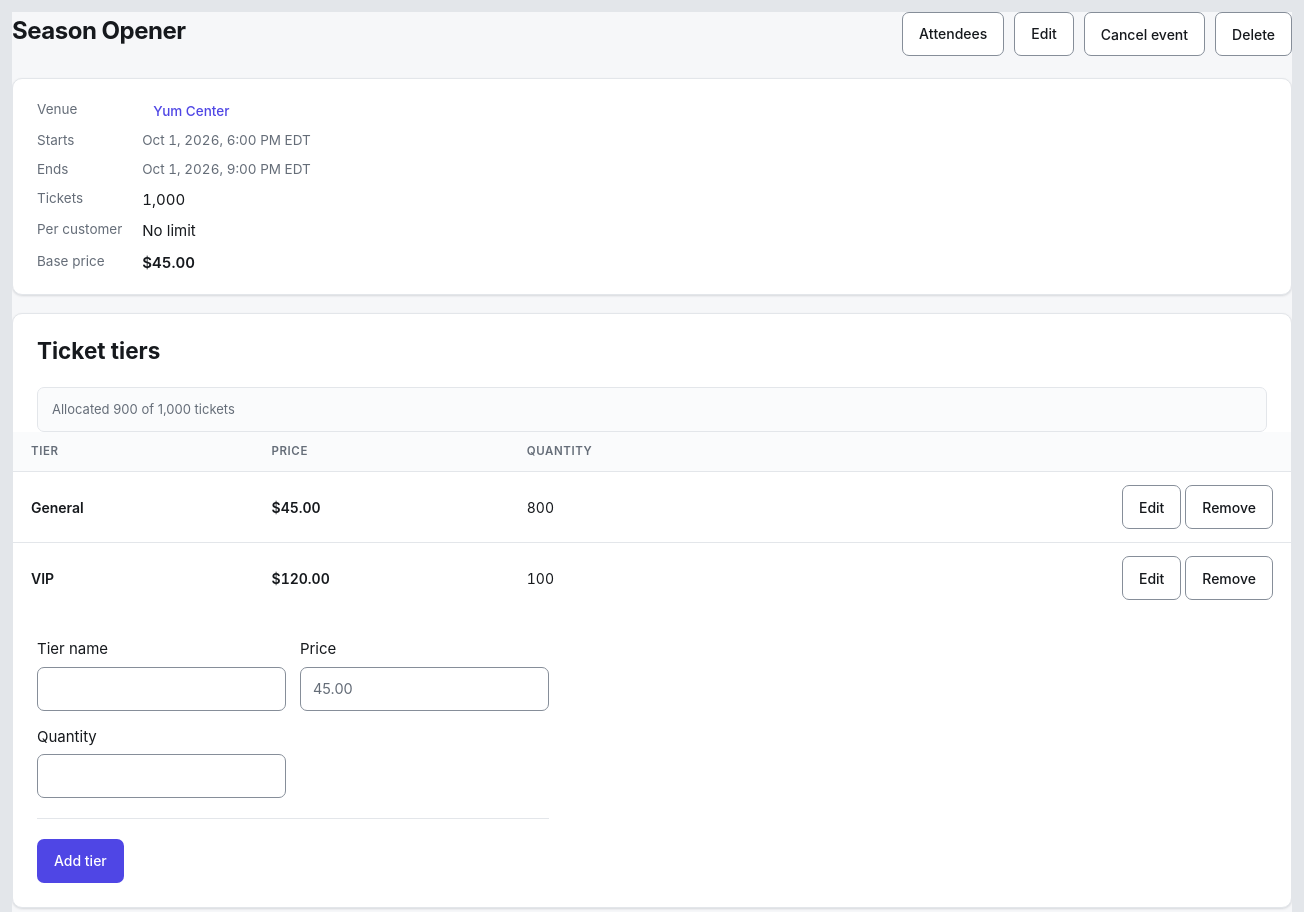
Scenario: Ticket tiers on the event page › edits a tier through PATCH
The width and height of the screenshot is (1304, 912).
Click the button "Edit" in the row of "VIP" at coordinates (1152, 578), box left=1122, top=556, right=1181, bottom=600
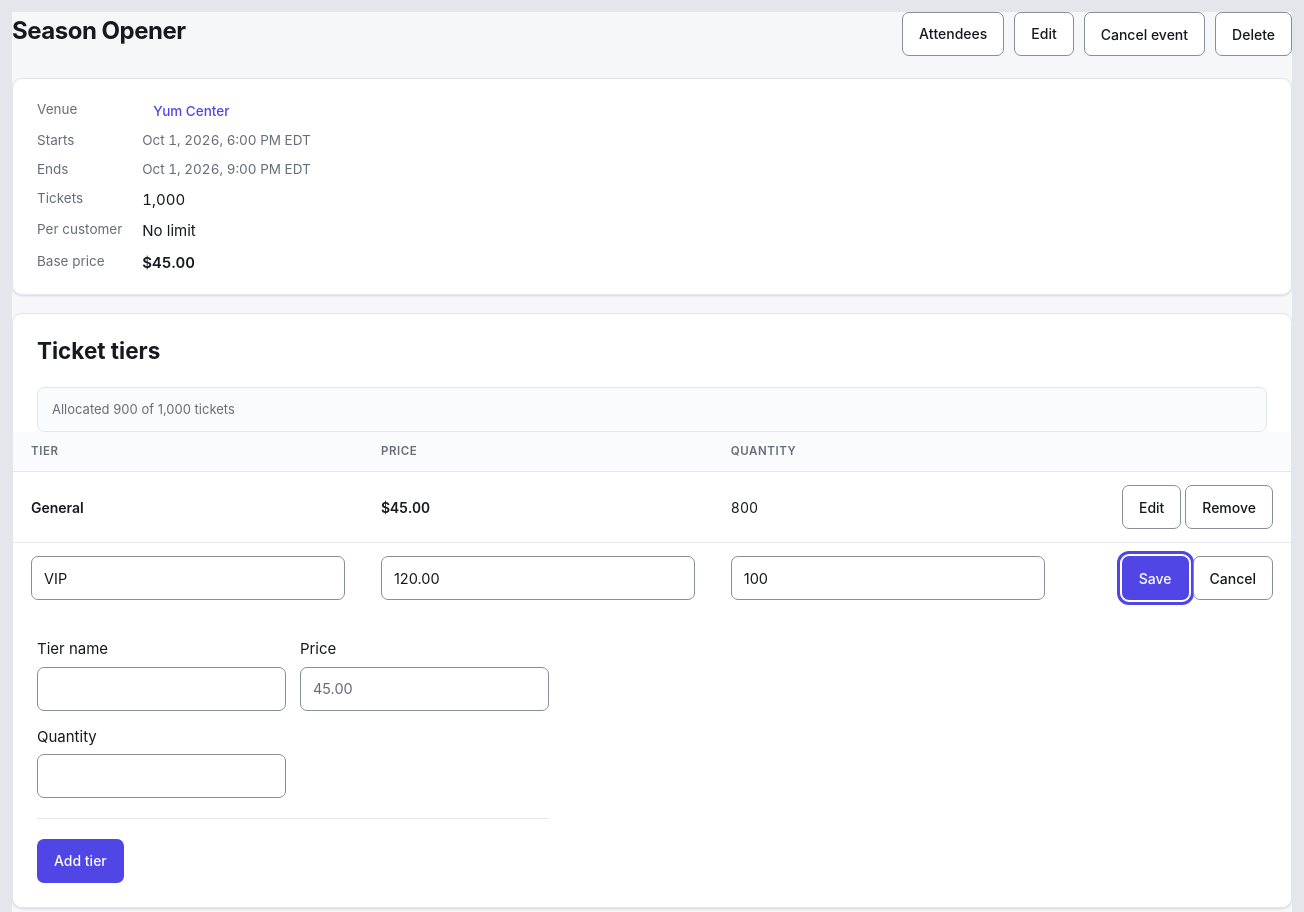
Replace the text in the number field named "Quantity for VIP" with "150" at coordinates (888, 578), box left=731, top=556, right=1045, bottom=600
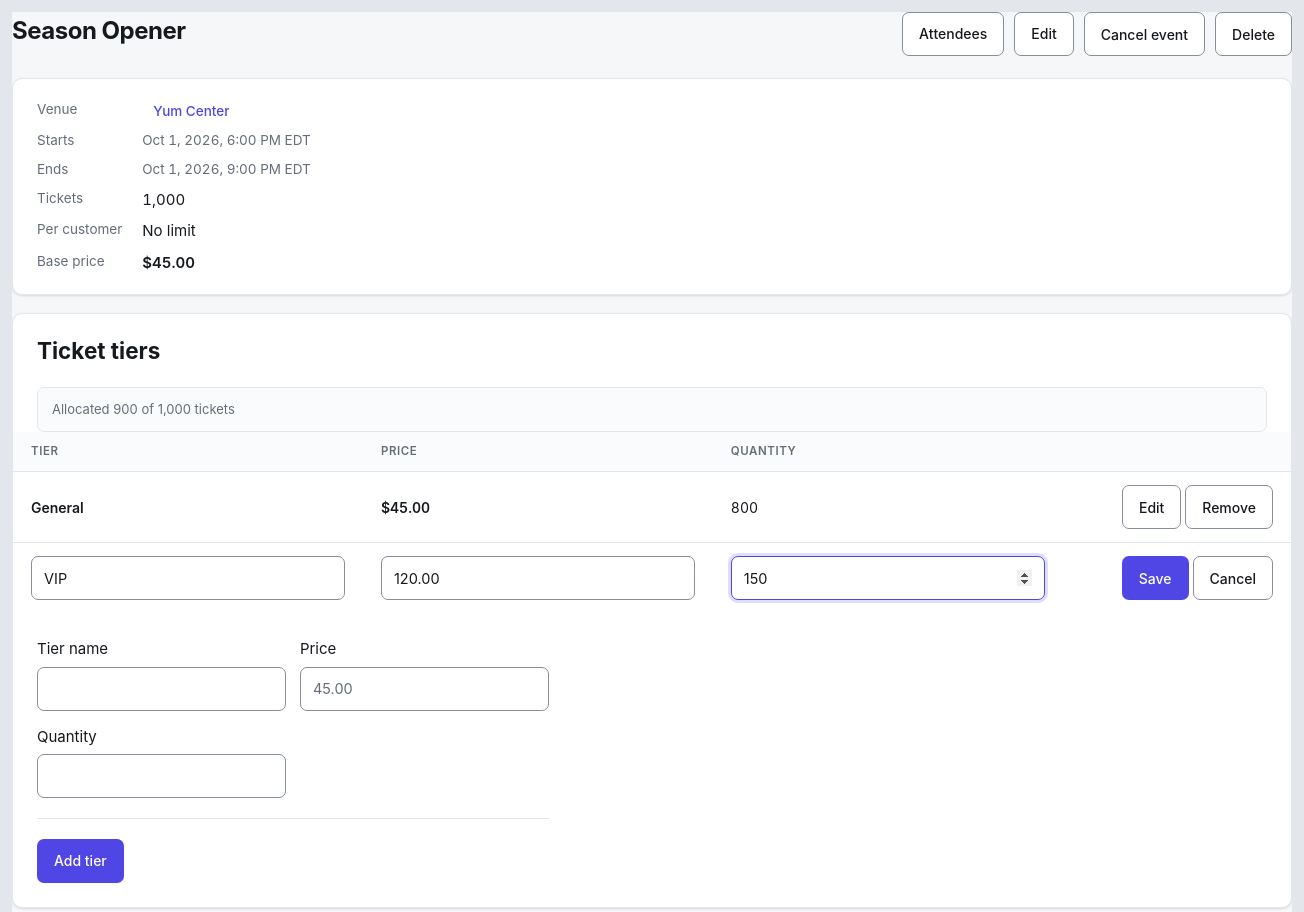
Click the button "Save" at coordinates (1155, 578), box left=1122, top=556, right=1189, bottom=600
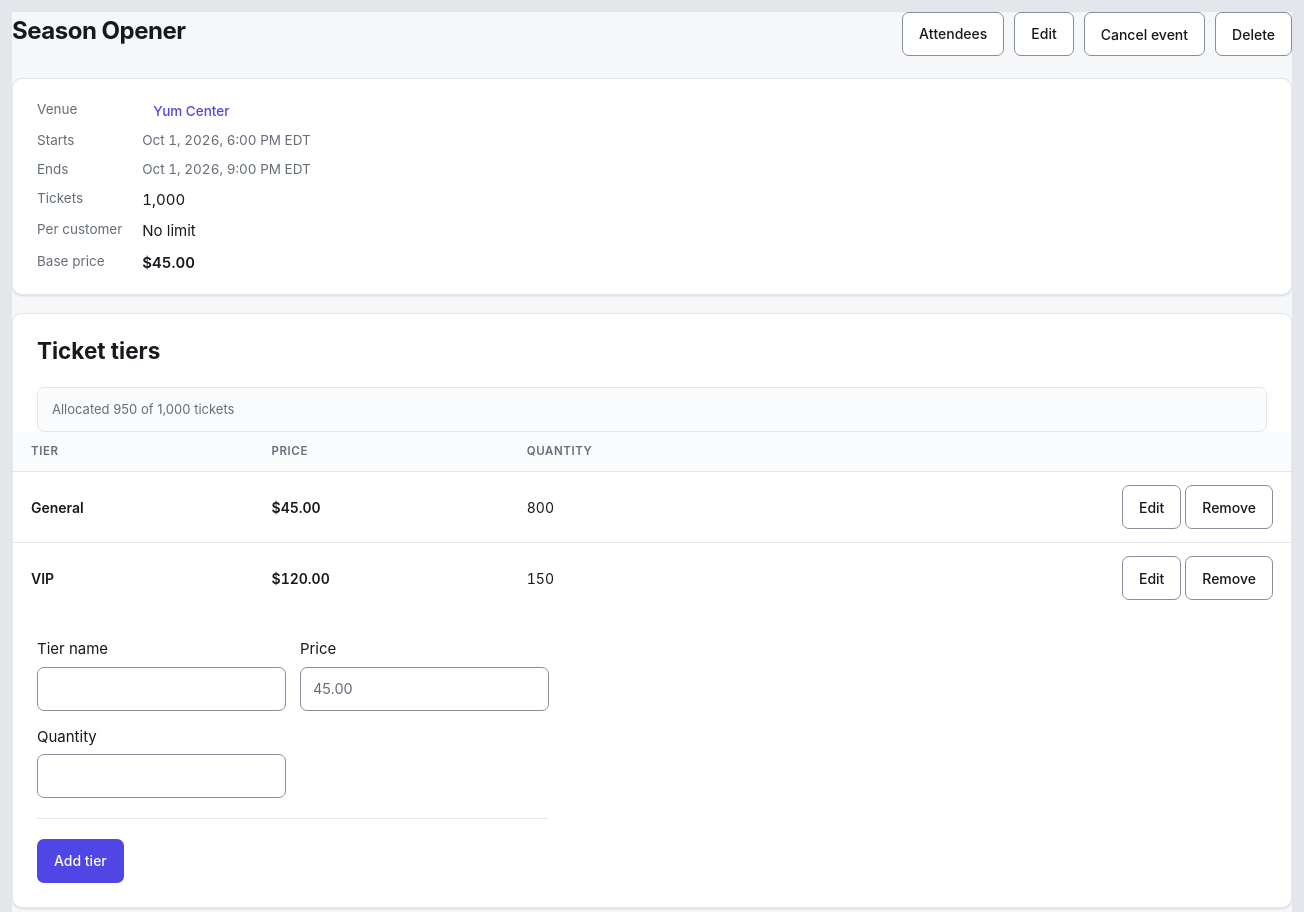
Check: the text "150" is shown, box left=509, top=543, right=784, bottom=613
